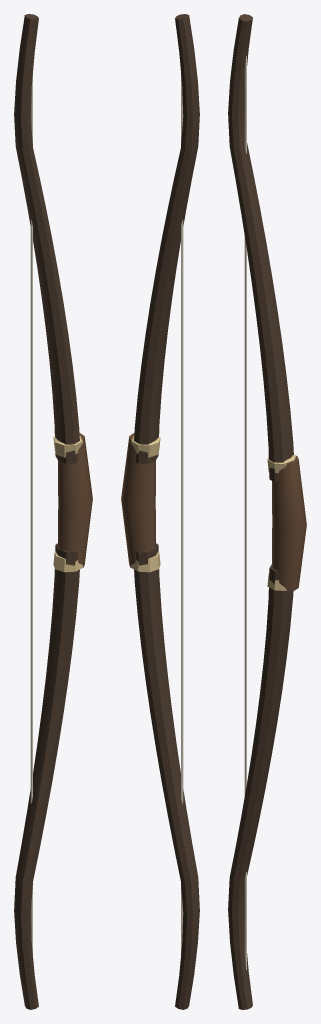
The model's file is tc_trailkeeper_bow.glb.
3 renders of one model, left to right at view 1: azimuth 30°, elevation 25°; view 2: azimuth 150°, elevation 25°; view 3: azimuth 330°, elevation 25°, orthographic.
Visible parts, largest first — view 1: tc_trailkeeper_bow; view 2: tc_trailkeeper_bow; view 3: tc_trailkeeper_bow.
Boxes of the visible parts, x1=… form: tc_trailkeeper_bow: x1=14, y1=14, x2=92, y2=1009; tc_trailkeeper_bow: x1=121, y1=14, x2=199, y2=1009; tc_trailkeeper_bow: x1=228, y1=14, x2=306, y2=1009.
Bounding box in the file's own units: 0.1233 × 1.56 × 0.044.
